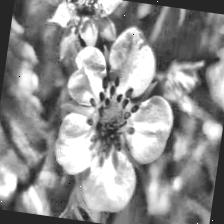Blossom Blight: (78, 71, 148, 159), (51, 0, 113, 38)
